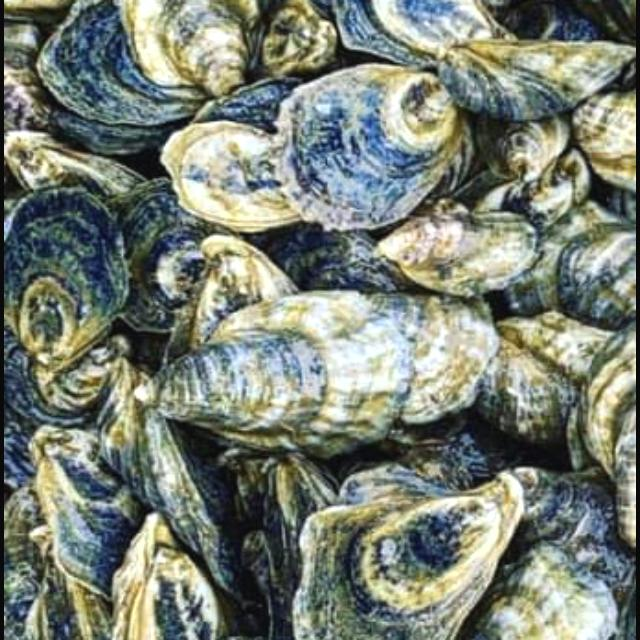Oyster-Closed: (139, 291, 414, 459), (94, 360, 268, 616), (293, 472, 525, 640), (270, 63, 462, 233), (501, 465, 637, 640), (4, 188, 129, 370), (36, 0, 205, 126), (31, 425, 148, 601), (106, 177, 237, 332), (473, 311, 615, 447), (165, 234, 310, 363), (362, 293, 501, 422), (437, 39, 637, 122), (160, 121, 303, 234), (453, 545, 619, 640), (112, 0, 263, 99), (113, 509, 226, 640), (263, 452, 341, 640), (506, 199, 629, 318), (375, 210, 540, 295), (4, 325, 130, 428), (329, 0, 516, 69), (248, 222, 424, 295), (474, 148, 592, 238), (4, 132, 150, 203), (559, 225, 637, 330), (586, 339, 637, 484), (572, 88, 637, 192), (194, 76, 303, 136), (476, 113, 572, 181), (4, 14, 57, 134), (4, 479, 48, 571), (616, 392, 637, 547), (4, 407, 39, 488), (4, 0, 75, 20)
